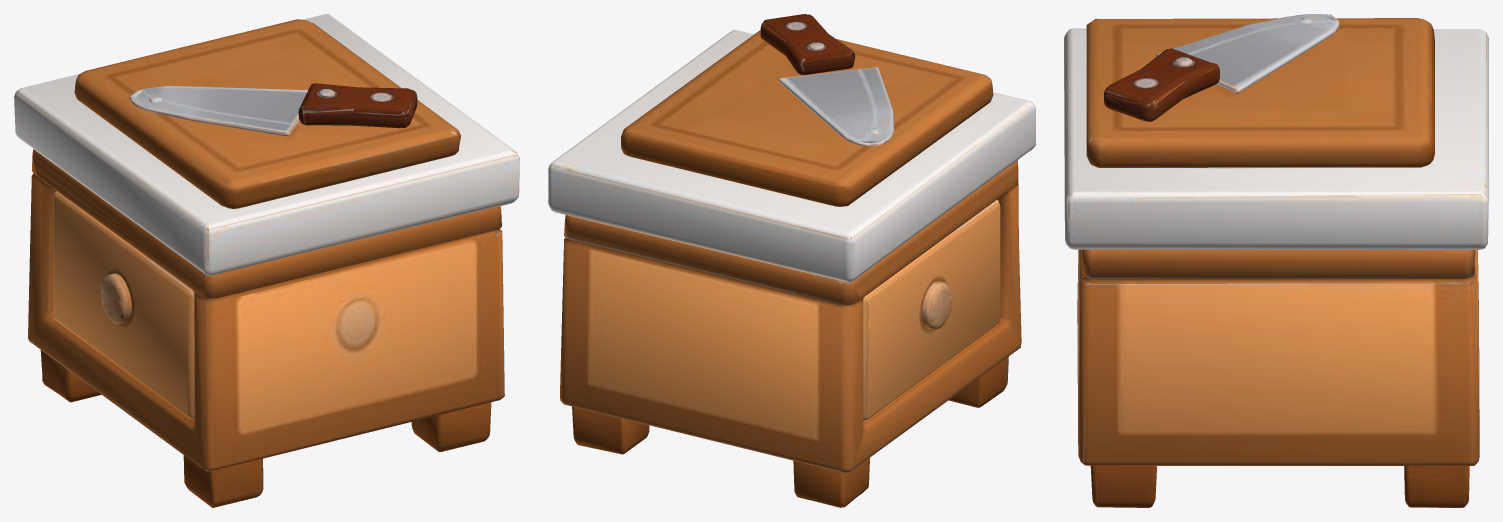
File: cutting_board.glb
3 views of the same model, side by side, from view 1: azimuth 30°, elevation 25°; view 2: azimuth 150°, elevation 25°; view 3: azimuth 270°, elevation 25° (orthographic). The views are drawn at different scales.
Size of the model in its own units: 0.9434 by 0.998 by 0.998.
1 material, 1 textured.
